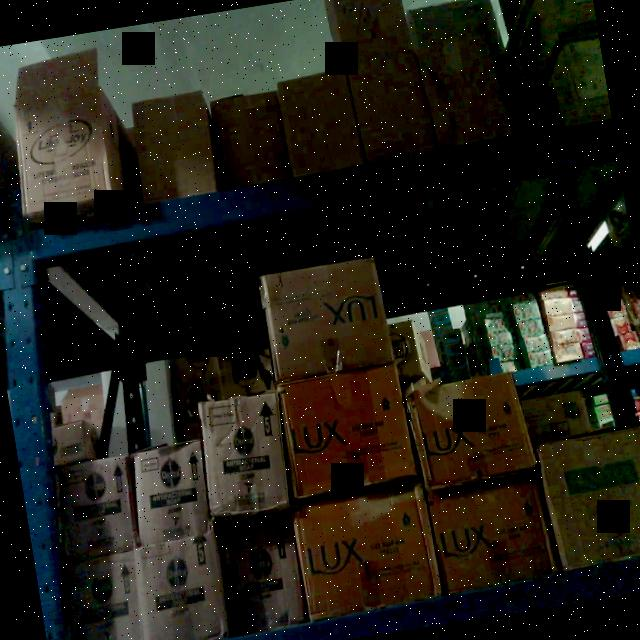box: (288, 482, 448, 622), (273, 358, 423, 498), (256, 252, 398, 386), (422, 470, 562, 598), (403, 368, 537, 498), (0, 64, 114, 215), (532, 419, 640, 575), (191, 386, 298, 521), (128, 85, 225, 207), (276, 65, 372, 184), (53, 448, 142, 568), (120, 438, 216, 548), (220, 520, 311, 636), (133, 535, 231, 640), (208, 86, 298, 190), (57, 546, 150, 640)
